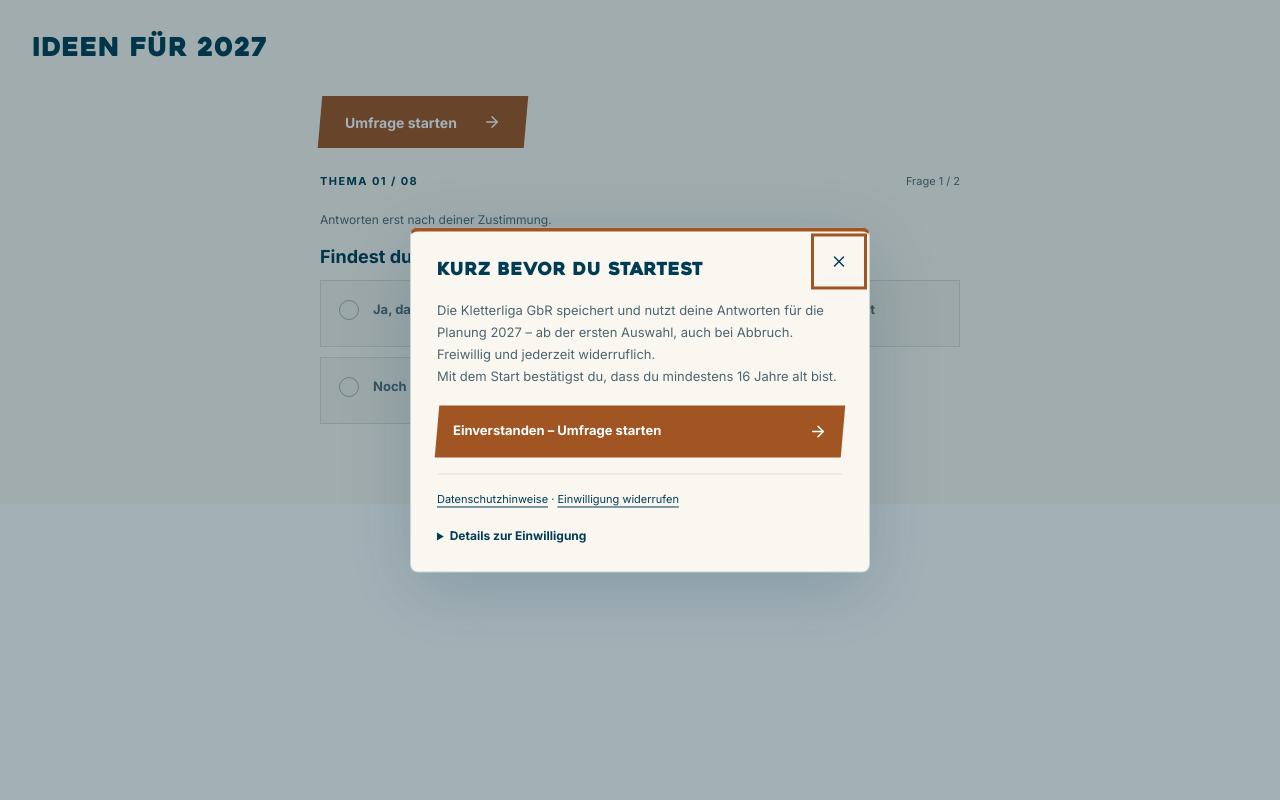
automatic question-by-question survey › opens when the survey reaches the viewport, not before and not repeatedly after dismissal
The image size is (1280, 800).
Expected: the dialog is shown, [410,228,870,573]
Click the button named "Einwilligungsfenster schließen" at (839, 262), box [819,242,859,282]
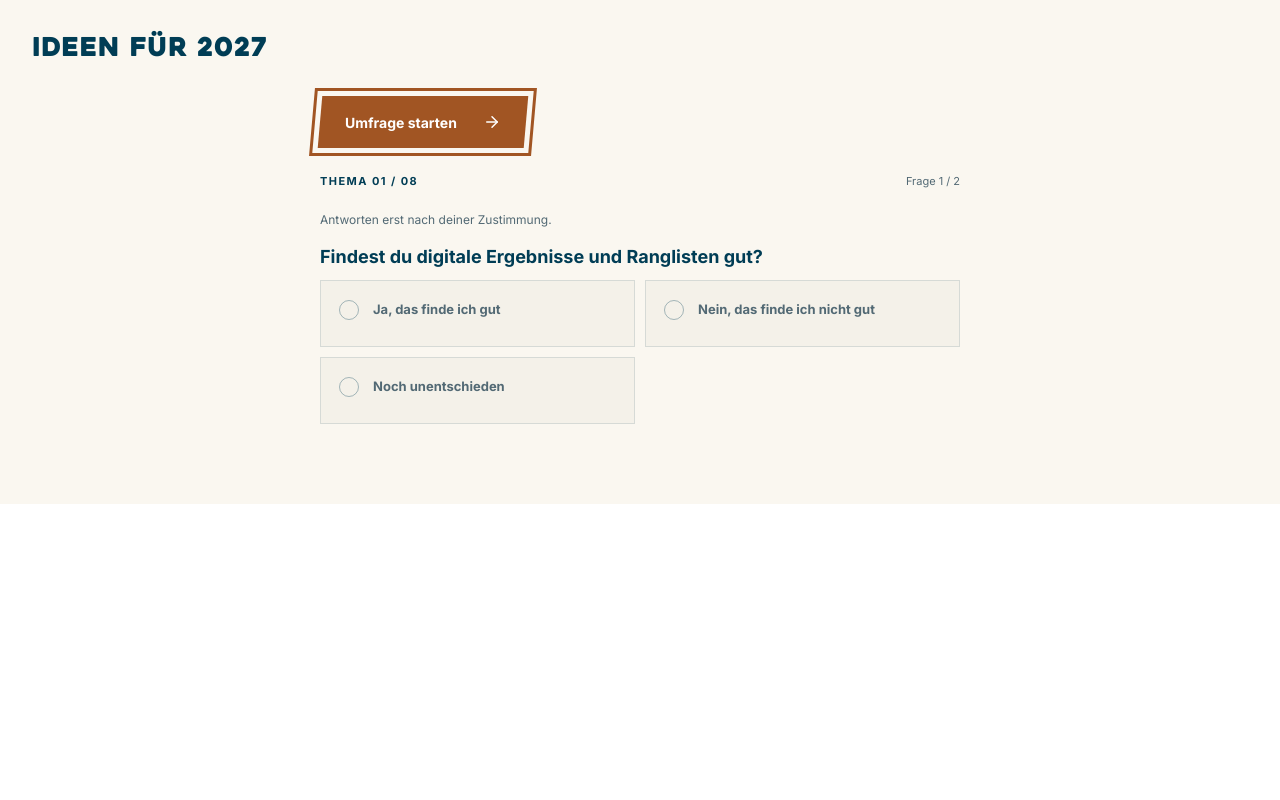
Result: the dialog is gone
